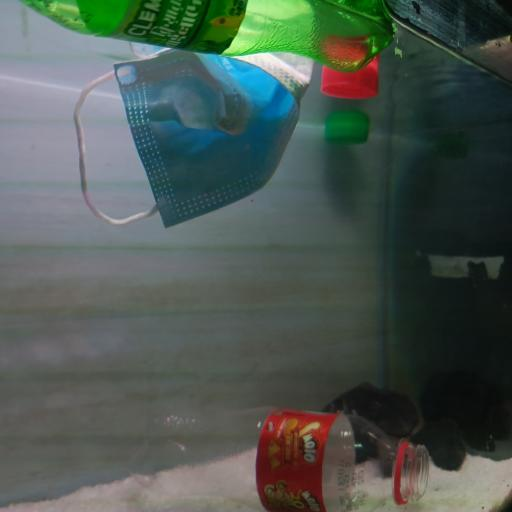bottle_cap: (322, 62, 381, 100), (327, 115, 368, 145)
mask: (75, 40, 311, 230)
plastic_bottle: (128, 404, 430, 512), (18, 0, 396, 74)
